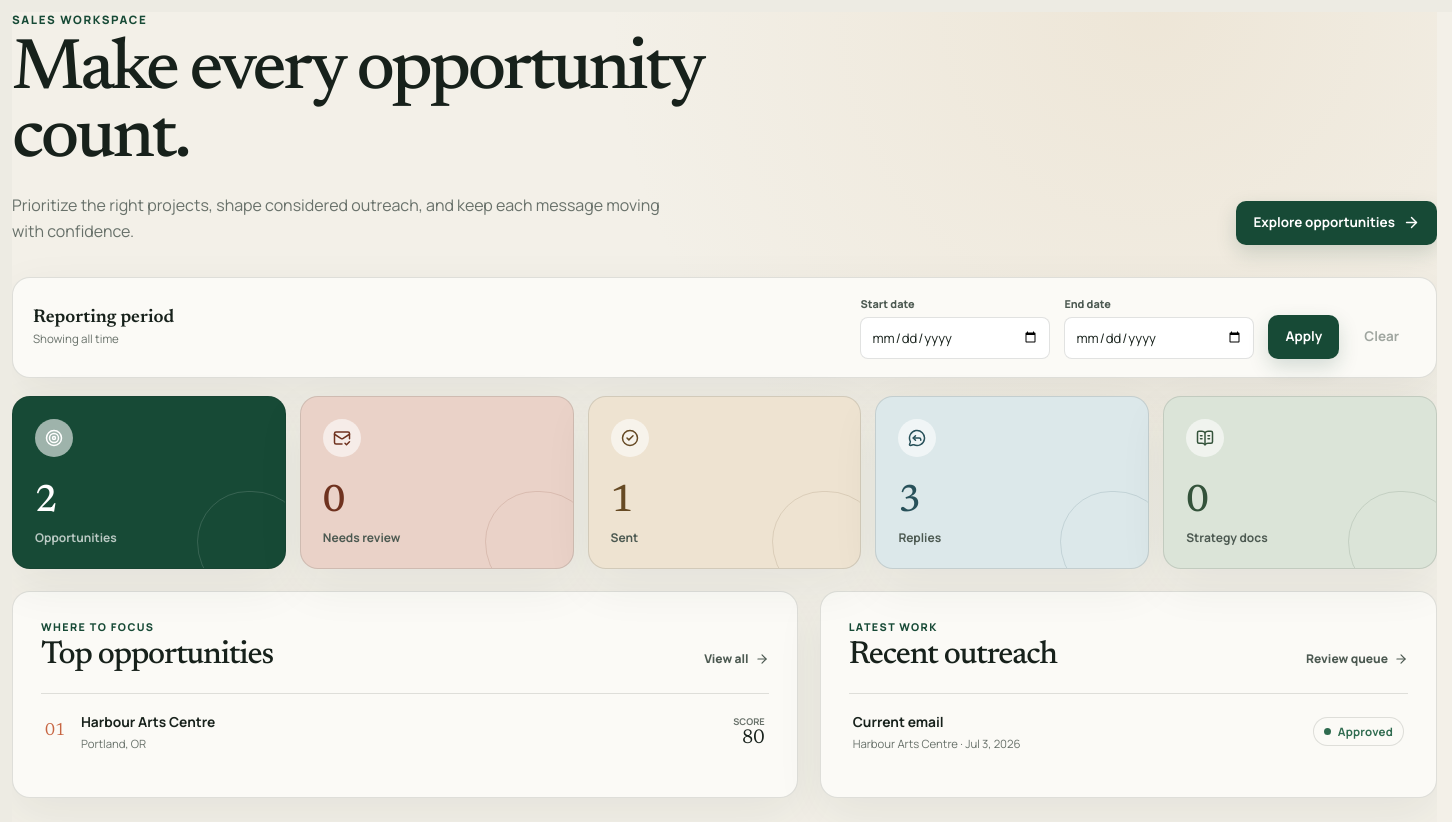
Test: OverviewPage › applies inclusive local calendar dates only to the four summary metrics and clears to all time
Expected: the element named "Opportunities: 2" is shown, [12,396,286,569]
Type "2026-07-01" into the date field labelled "Start date".
click(955, 338); type("2026-07-01")  # box [860,317,1050,359]
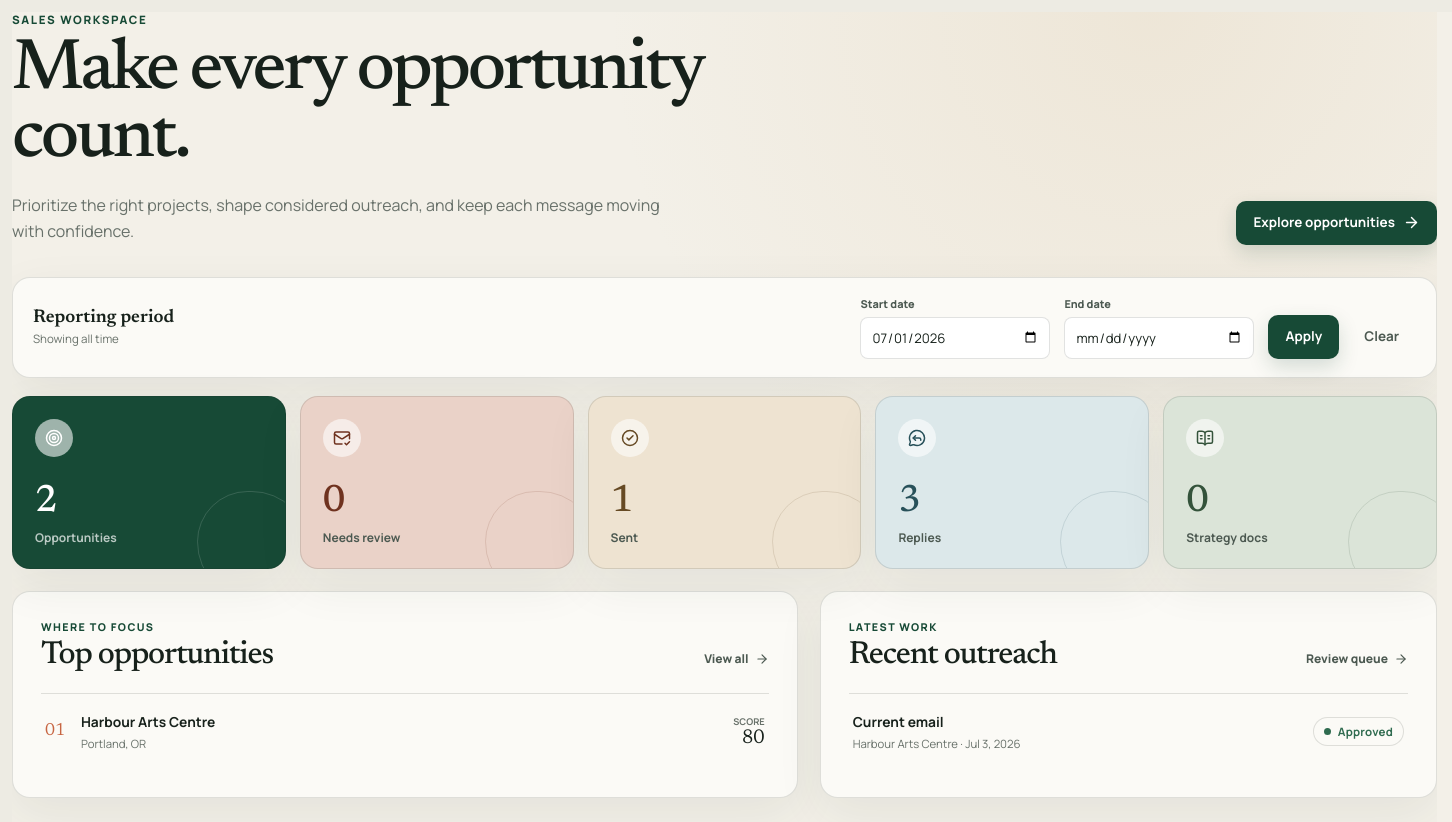
Type "2026-07-31" into the date field labelled "End date".
click(1159, 338); type("2026-07-31")  # box [1064,317,1254,359]
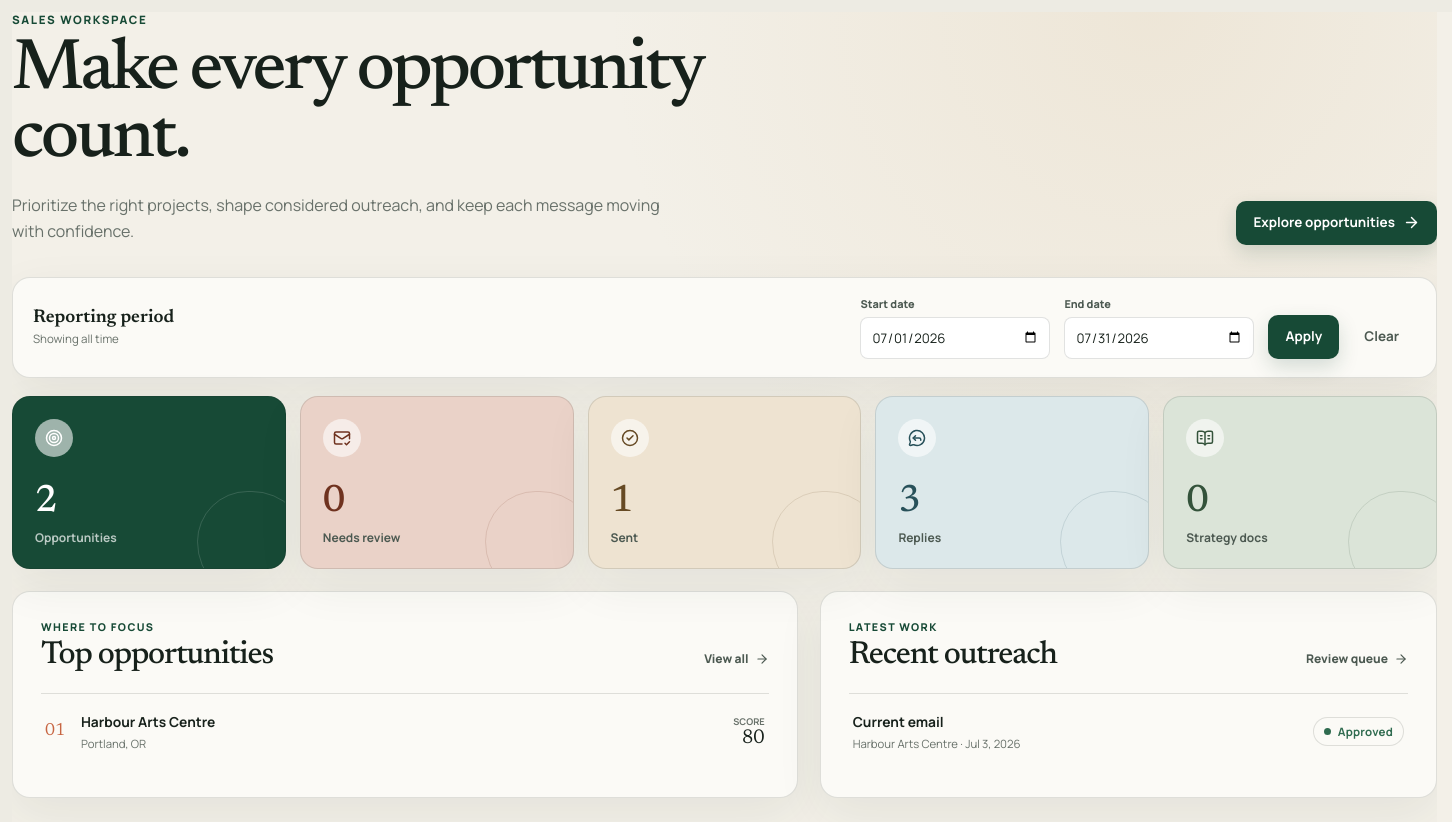
Click the button "Apply".
click(1304, 337)  # box [1268,315,1339,359]
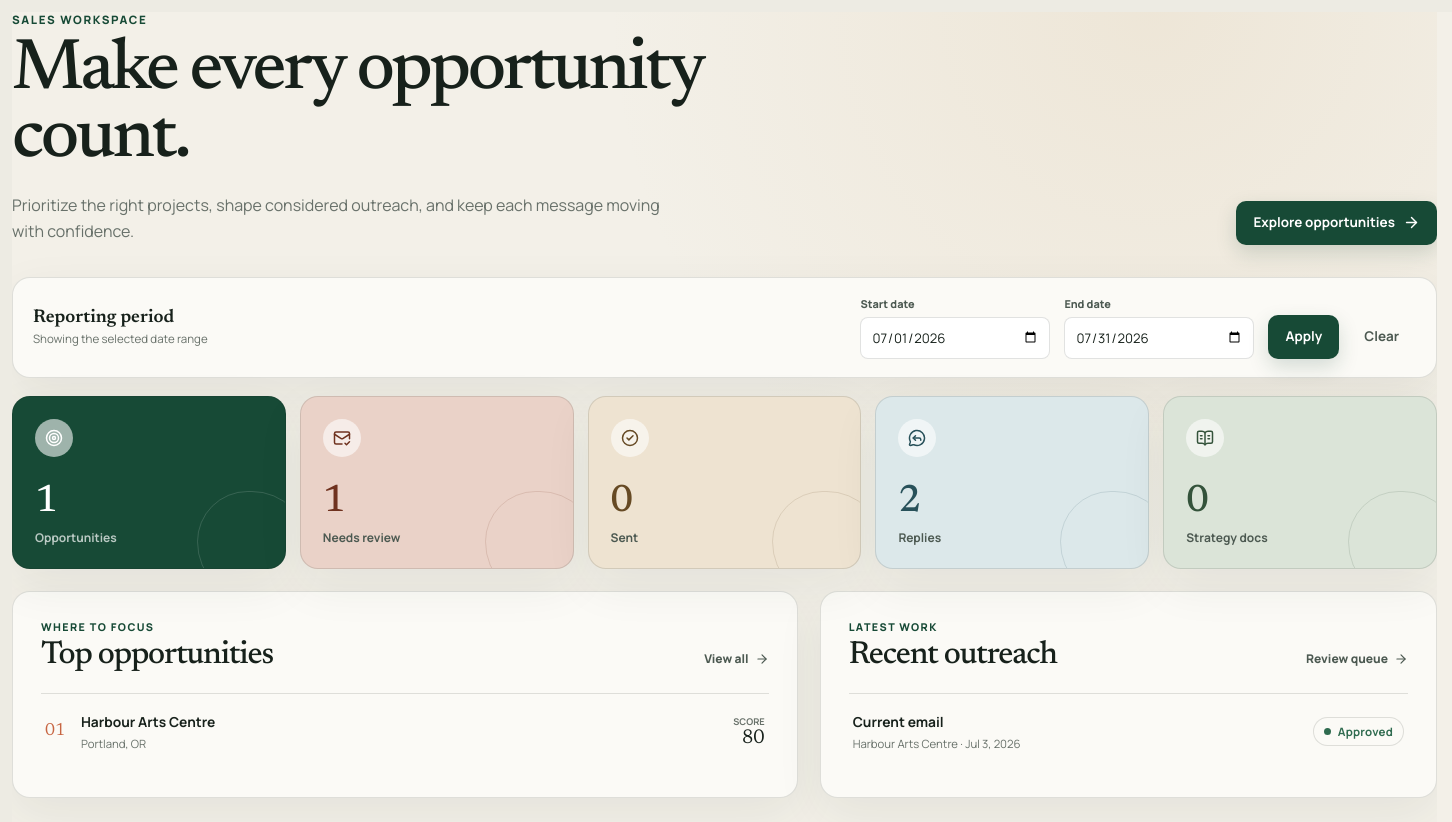
Expected: the text "Harbour Arts Centre" is shown, [81,712,215,731]
Result: the element named "Opportunities: 1" is shown at [12,396,286,569]
Result: the element named "Replies: 2" is shown at [875,396,1149,569]
Click the button "Clear".
click(1382, 337)  # box [1347,315,1416,359]
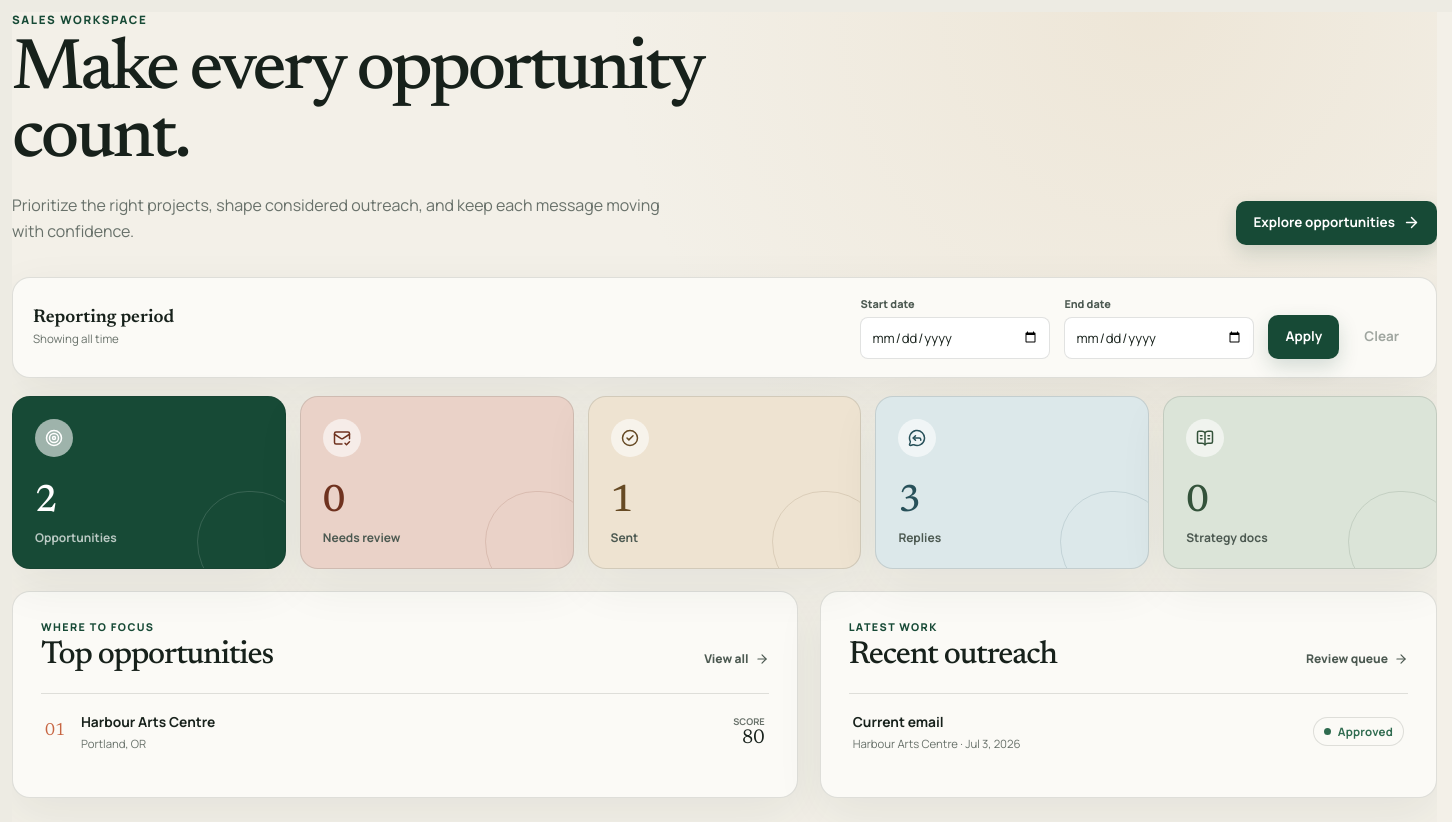
Result: the date field labelled "Start date" is empty at [860,317,1050,359]
Result: the date field labelled "End date" is empty at [1064,317,1254,359]
Result: the text "Showing all time" is shown at [33,331,119,346]
